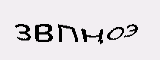В: (33, 22, 54, 43)
З: (10, 21, 30, 42)
О: (107, 23, 124, 42)
П: (54, 20, 81, 42)
Э: (124, 22, 140, 40)
Ң: (81, 26, 106, 46)
